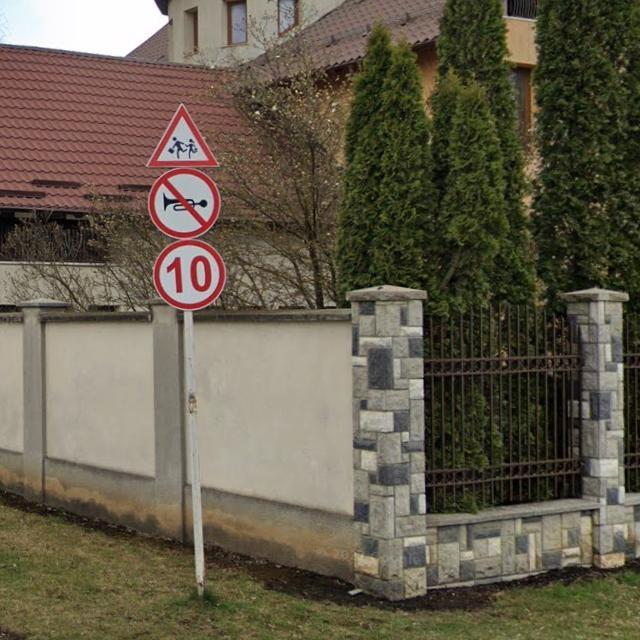forb_speed_over_10: (153, 239, 226, 311)
